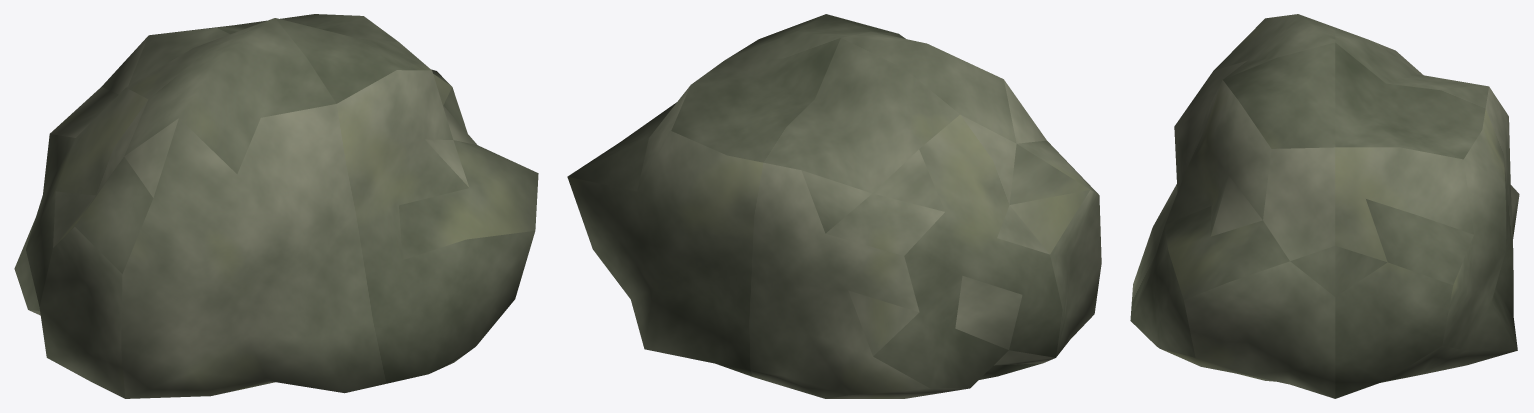
The model's file is Rock_Medium_1_LOD1.gltf.
3 renders of one model, left to right at view 1: azimuth 30°, elevation 25°; view 2: azimuth 150°, elevation 25°; view 3: azimuth 270°, elevation 25°, orthographic. The views are drawn at different scales.
Visible parts, largest first — view 1: Rock_Medium_1_LOD1; view 2: Rock_Medium_1_LOD1; view 3: Rock_Medium_1_LOD1.
Part boxes in pixels (<box>): Rock_Medium_1_LOD1: <box>14,14,538,398</box>; Rock_Medium_1_LOD1: <box>567,14,1101,398</box>; Rock_Medium_1_LOD1: <box>1130,14,1519,398</box>.
Bounding box in the file's own units: 1.78 × 1.13 × 1.41.
Materials: 1 (1 with a texture image).
